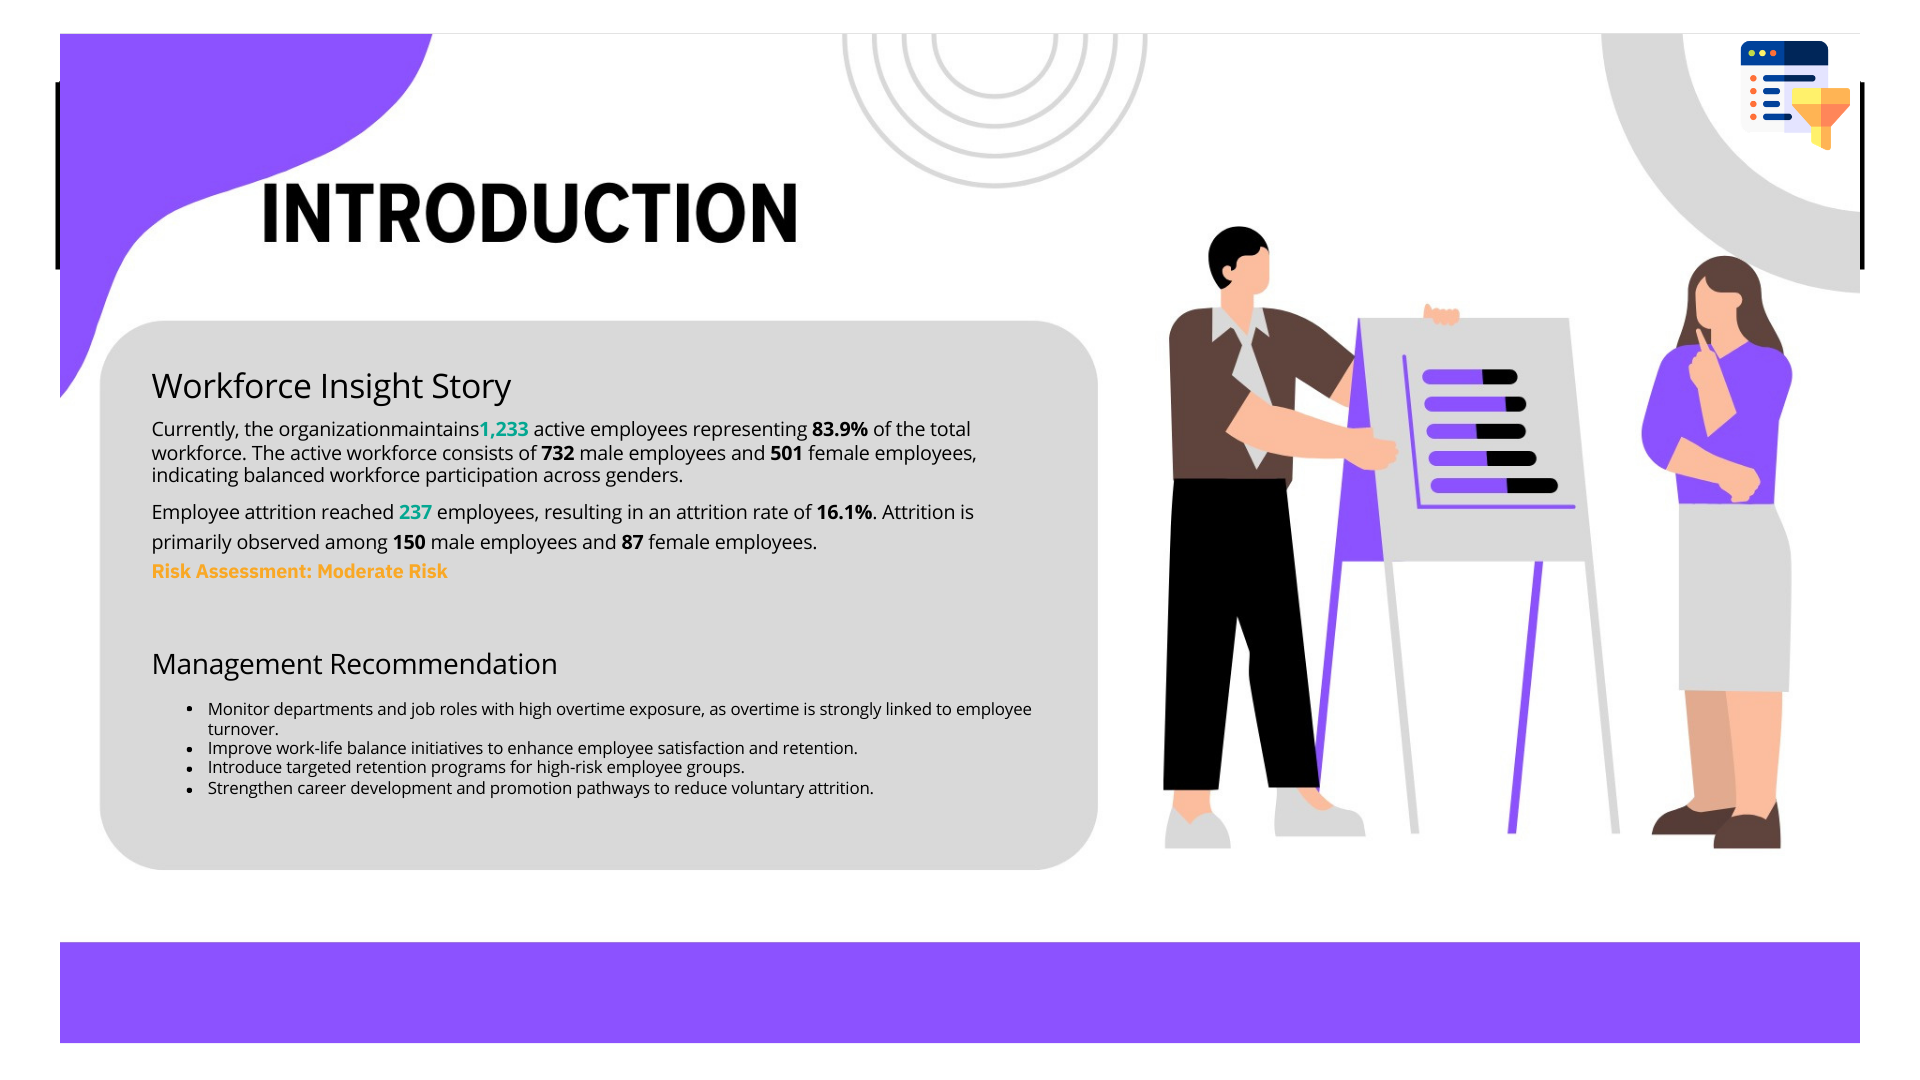

Layout of this report page (visuals, bound fields, positions):
{"tool":"powerbi","page":{"name":"Intro","canvas":[1280,720],"ordinal":1},"visuals":[{"type":"htmlContent443BE3AD55E043BF878BED274D3A6865","fields":{"content":["Measure.TTL Employees Insight (HTML Story)"]},"box":[47.7,206.7,660.7,386],"z":0},{"type":"image","box":[1187,0,92.5,88.2],"z":13000}]}

Visuals, with their boxes in screenshot pixels (x1, y1, x2, y2), scaled from the page's 1280x720 canvas onto the 1920x1080 screenshot:
htmlContent443BE3AD55E043BF878BED274D3A6865 - Measure.TTL Employees Insight (HTML Story): 72:310:1063:889
image: 1780:0:1919:132
